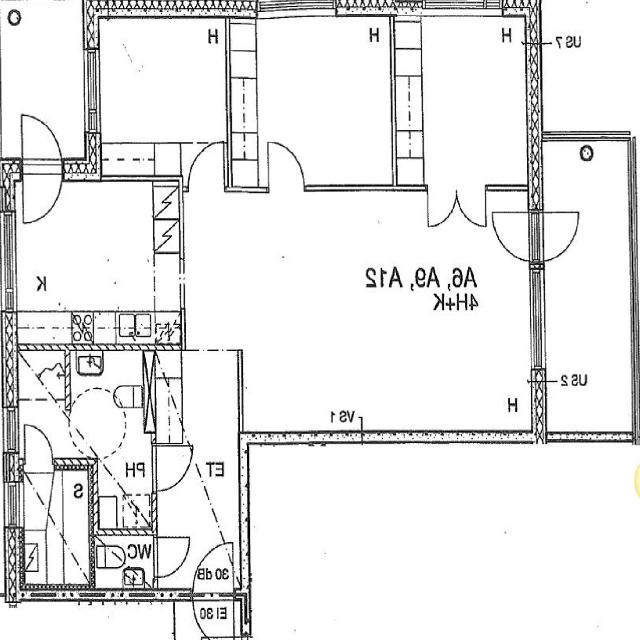door: (488, 212, 542, 261), (528, 212, 582, 261), (194, 538, 234, 602), (22, 164, 62, 223), (22, 116, 62, 174), (194, 588, 234, 640), (150, 446, 192, 491), (269, 142, 305, 192), (189, 142, 225, 192), (150, 537, 188, 578), (26, 424, 53, 469), (457, 186, 485, 227), (428, 186, 456, 227)
